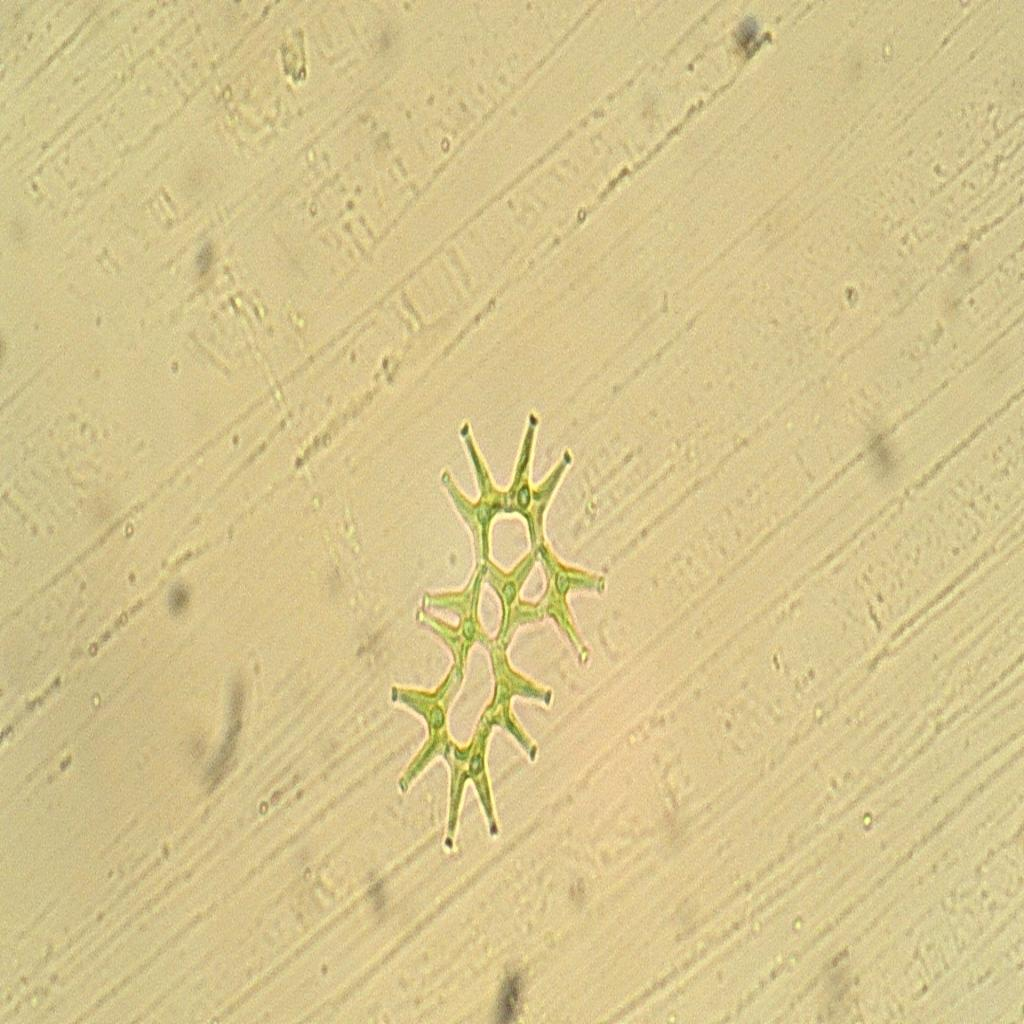Pediastrum_CFI: (380, 361, 618, 868)
